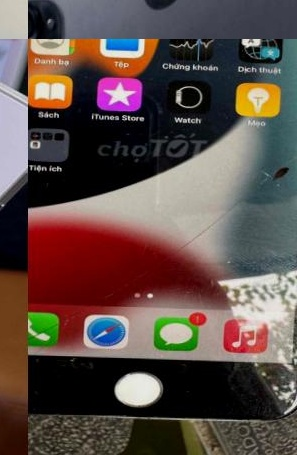physical_damage: (28, 131, 297, 373)
scratch: (112, 374, 197, 409), (250, 383, 294, 413)
